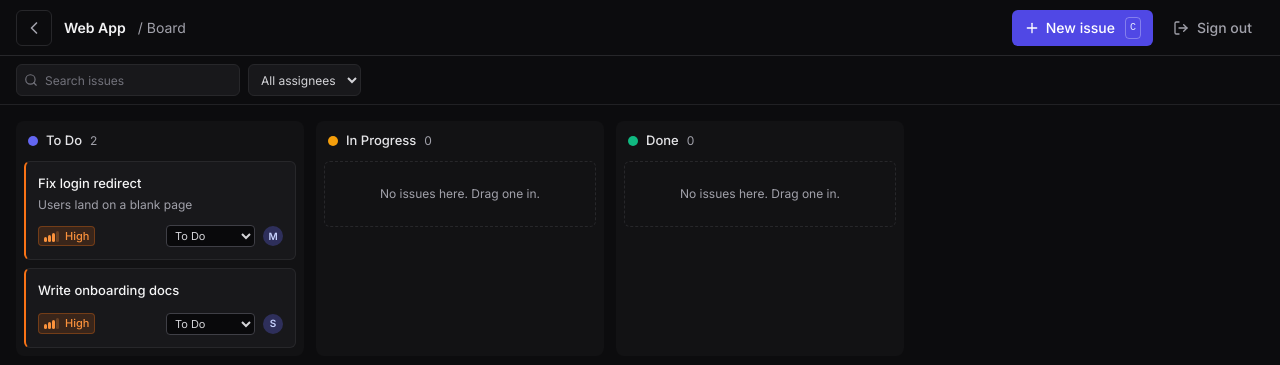
Test case: BoardClient › filters by search text and assignee
Expected: the button "Fix login redirect" is shown, [38,174,283,193]
Type "onboarding" into the search field labelled "Search issues".
click(128, 80); type("onboarding")  # box [16,64,240,96]
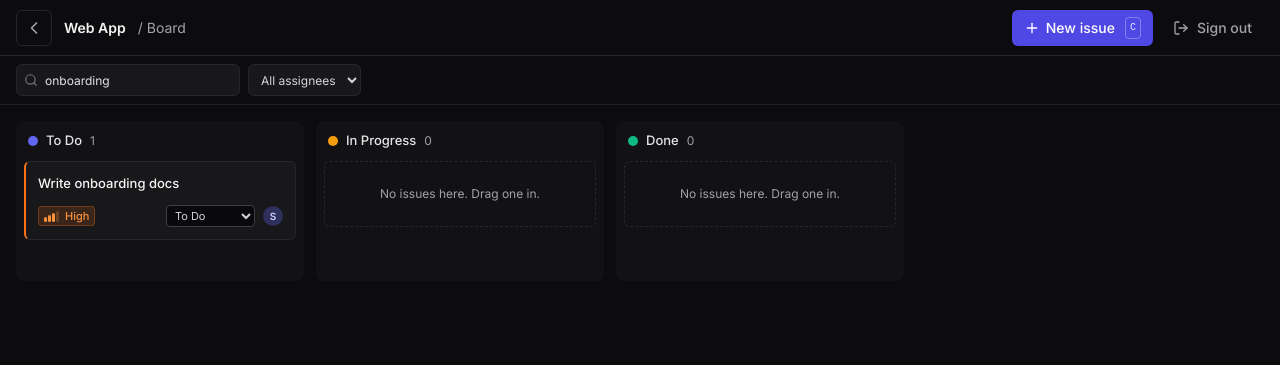
Expected: the button "Write onboarding docs" is shown, [38,174,283,193]
Expected: the button "Fix login redirect" is gone
Clear the search field named "Search issues" at (128, 80), box [16,64,240,96]
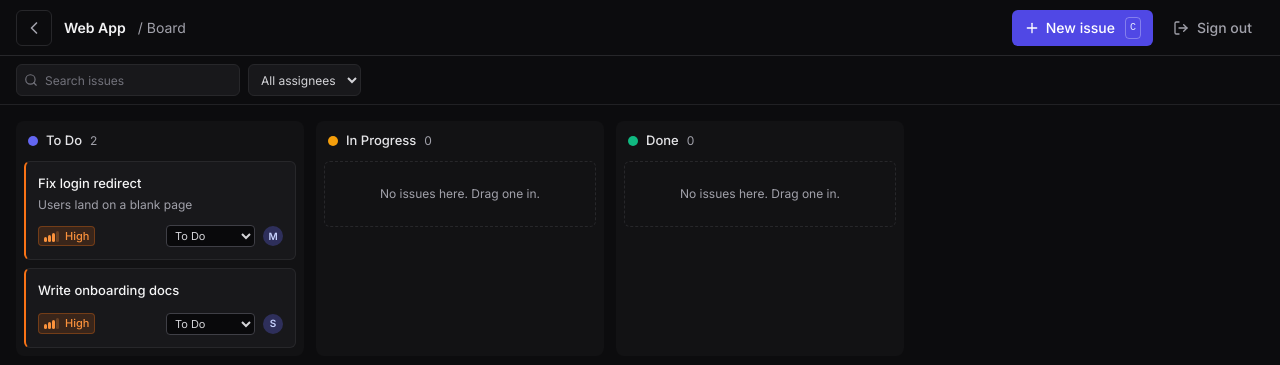
Select "Maya Chen" in the dropdown named "Filter by assignee" at (304, 80), box [248,64,361,96]
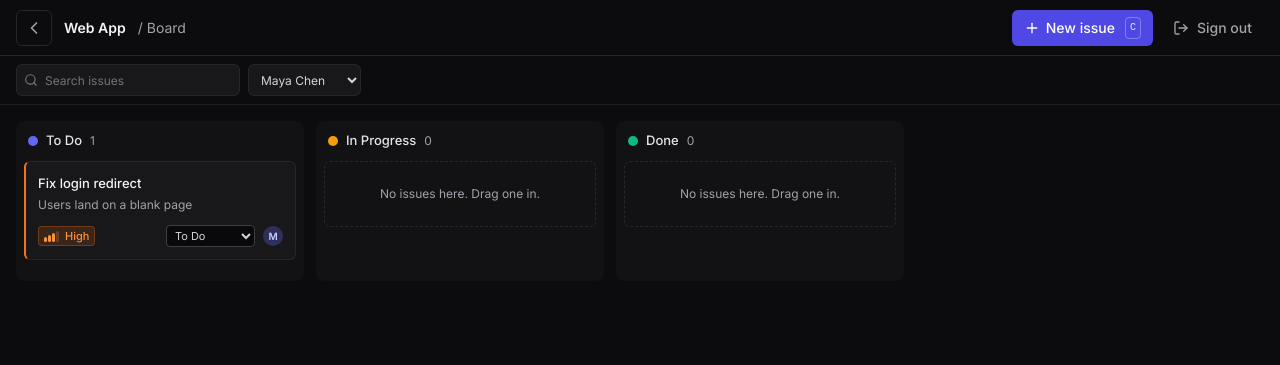
Expected: the button "Fix login redirect" is shown, [38,174,283,193]
Expected: the button "Write onboarding docs" is gone
Select "Unassigned" in the dropdown named "Filter by assignee" at (304, 80), box [248,64,361,96]
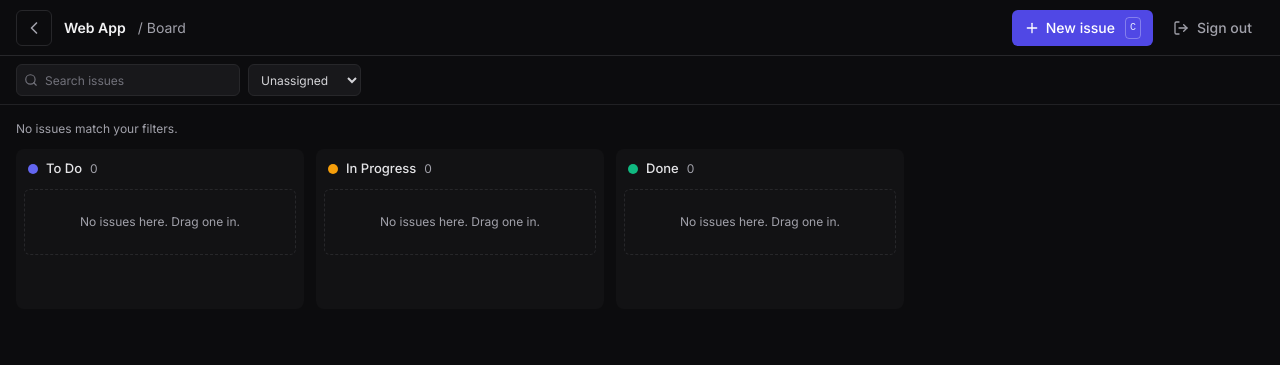
Expected: the text "No issues match your filters." is shown, [16,121,178,136]
